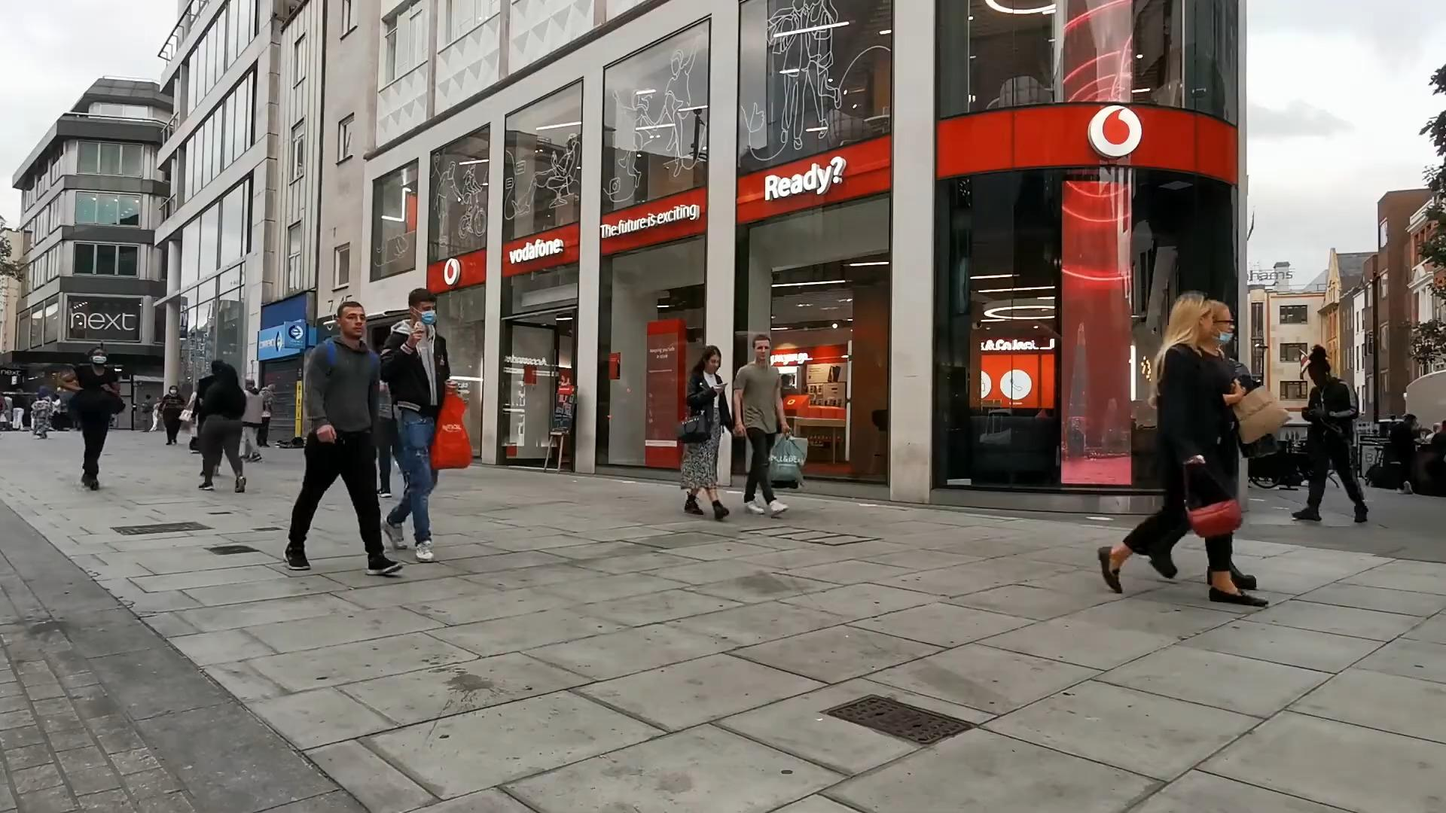no-helmet: (1166, 290, 1214, 343), (335, 300, 367, 339), (408, 287, 438, 327), (1213, 298, 1235, 346), (699, 344, 721, 374), (752, 333, 772, 362), (87, 347, 108, 366), (168, 385, 180, 396)
